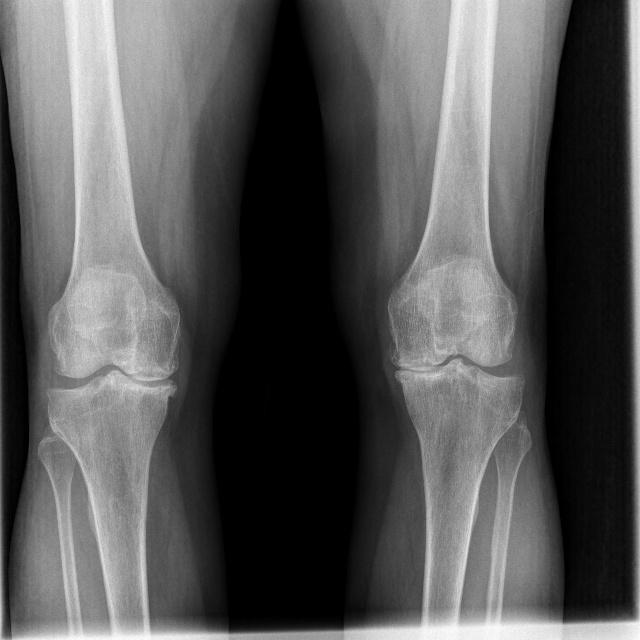Knee: (382, 289, 526, 439), (44, 298, 182, 439)
